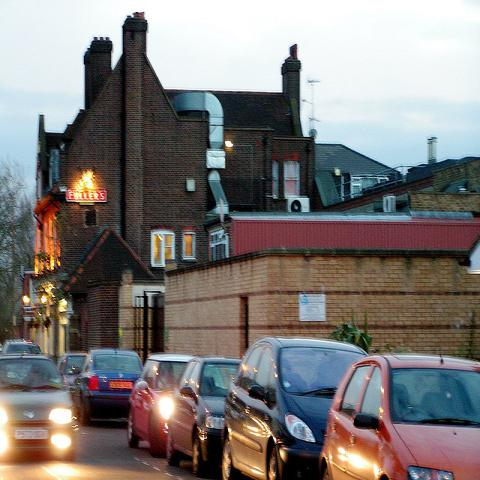car: (310, 353, 480, 479), (222, 336, 369, 474), (163, 356, 242, 477), (0, 354, 73, 463), (71, 349, 145, 423), (129, 354, 184, 447), (58, 352, 87, 392), (1, 341, 43, 357)
